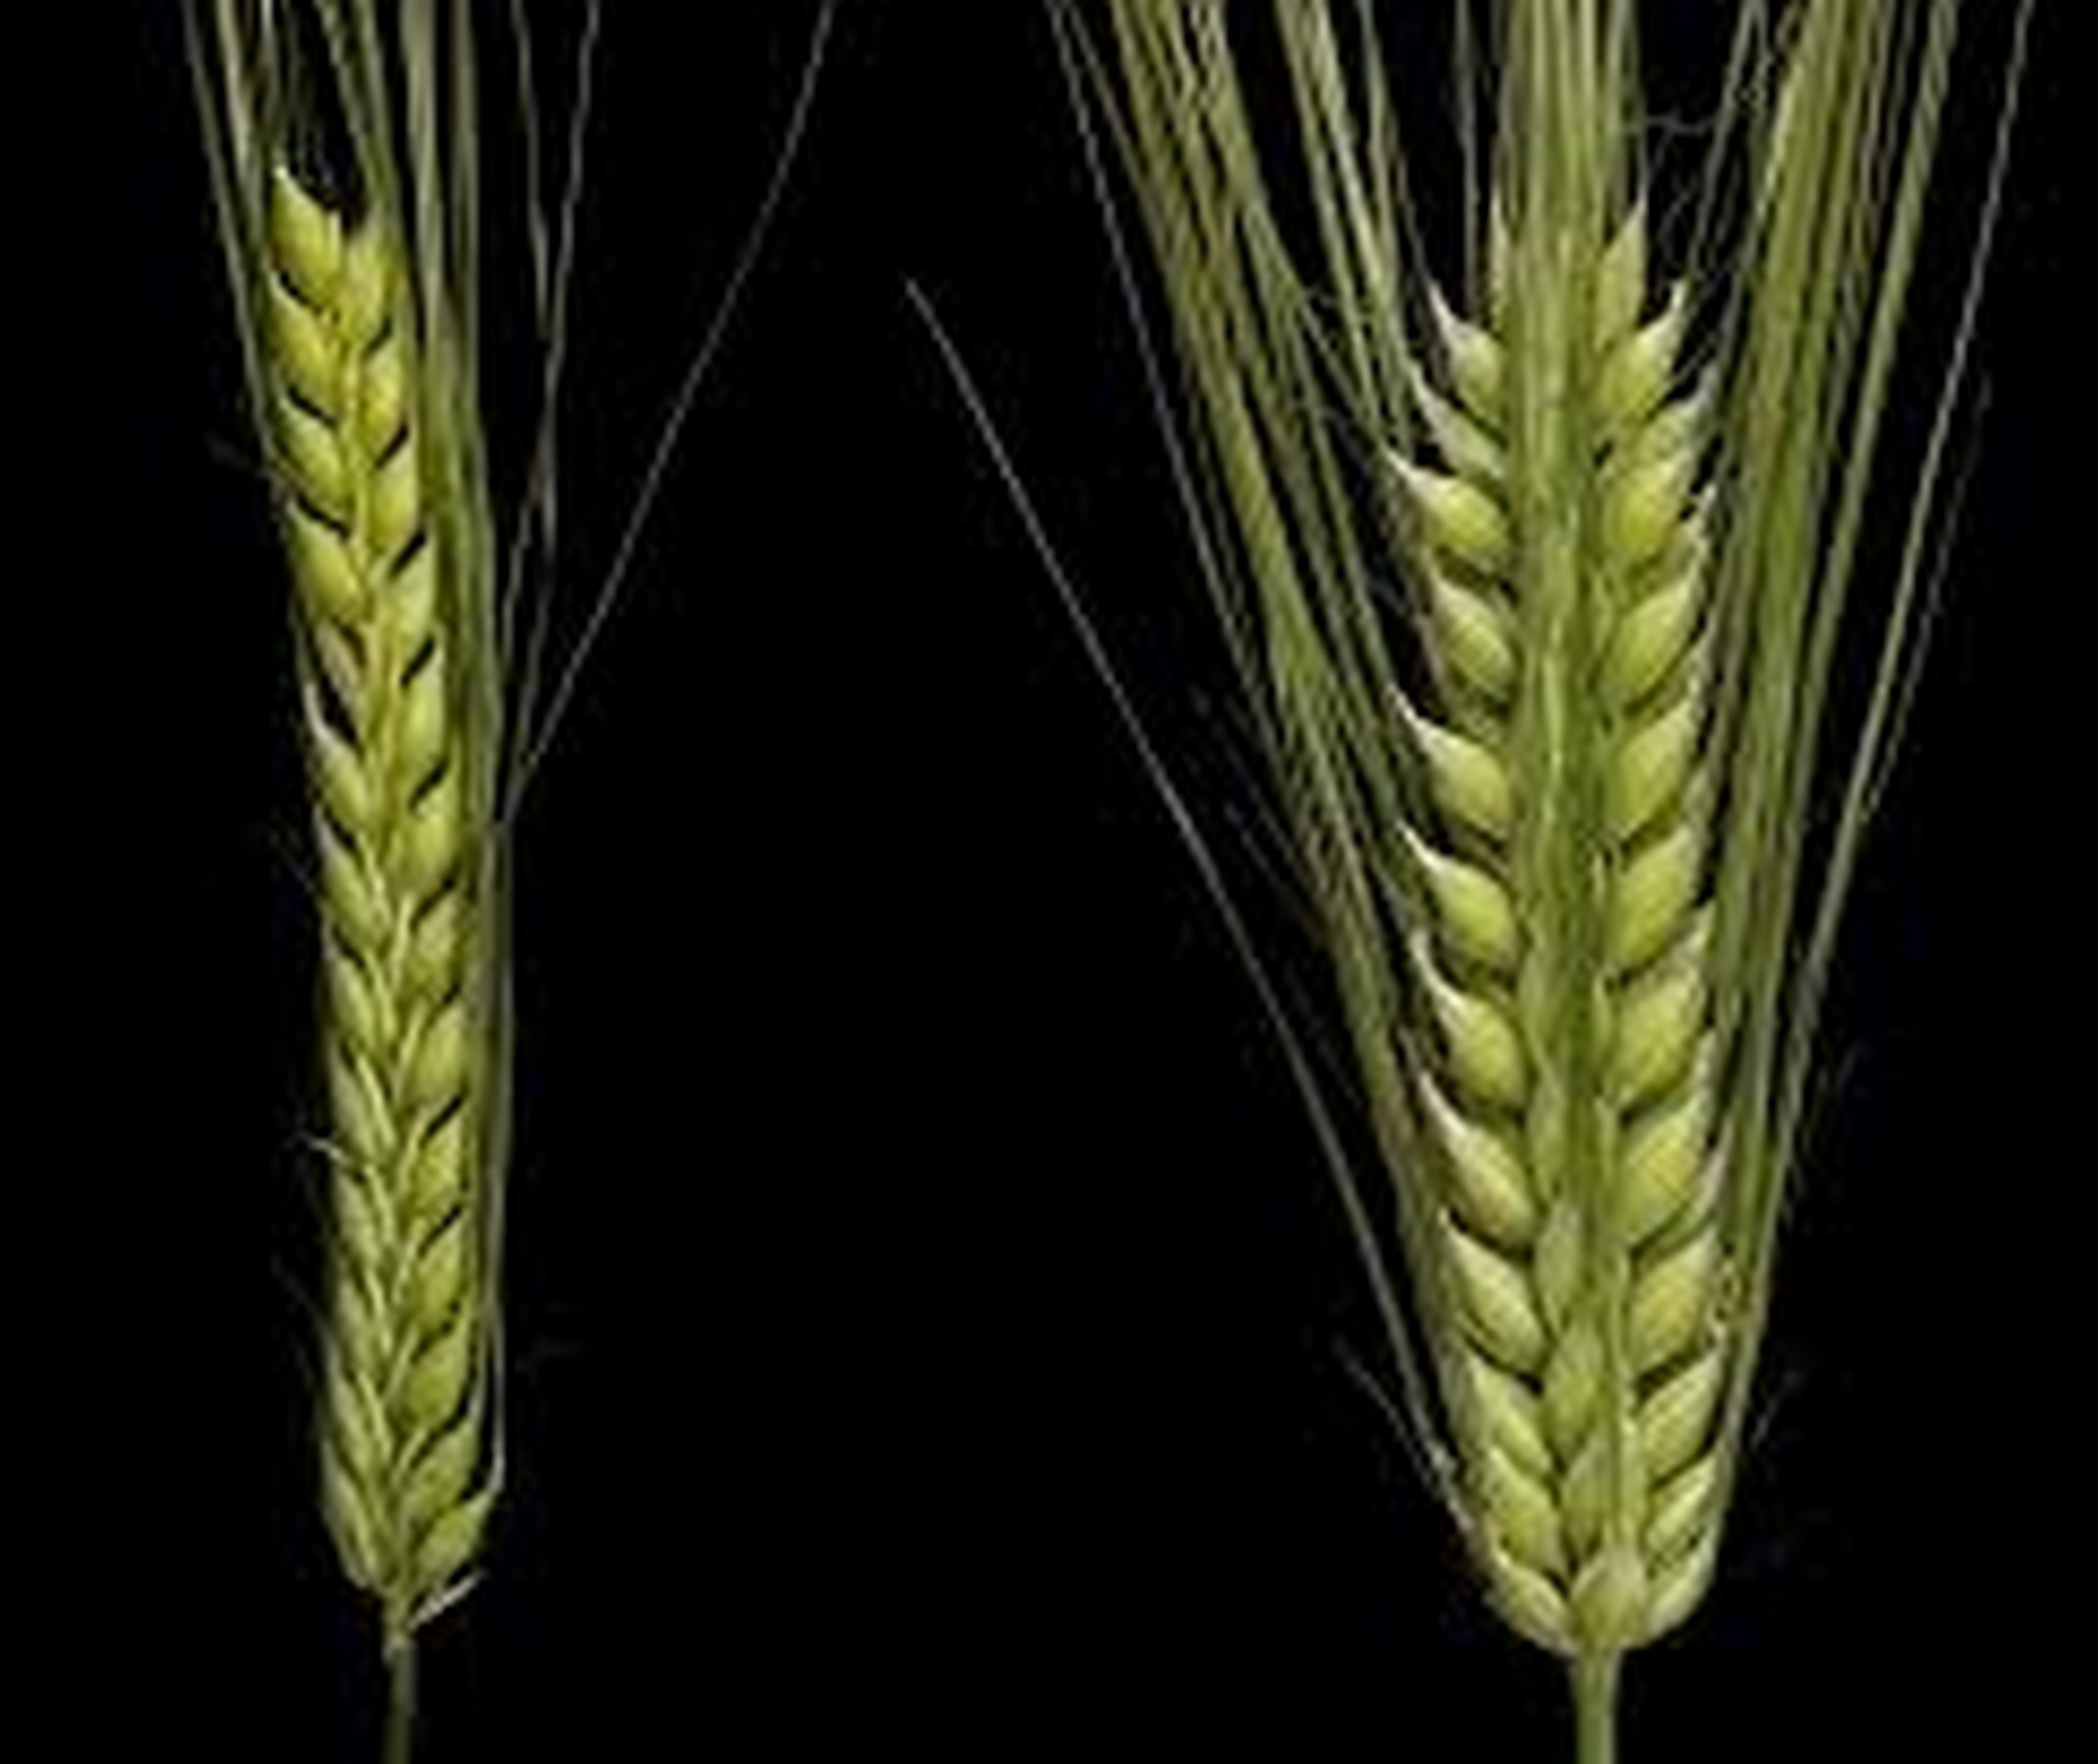Healthy Wheat: (1276, 229, 1841, 1741), (161, 133, 586, 1626)
